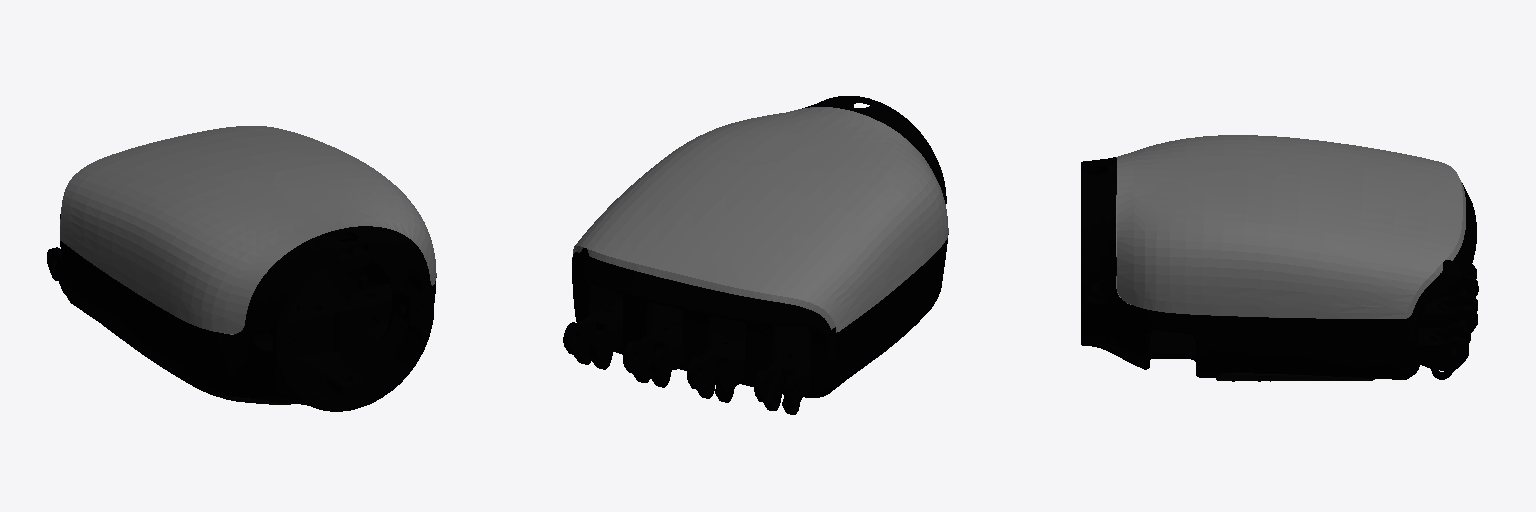
Rendered from L_hand_base_link.obj.
3 views of the same model, side by side, from view 1: azimuth 30°, elevation 25°; view 2: azimuth 150°, elevation 25°; view 3: azimuth 270°, elevation 25° (orthographic).
Visible parts, largest first — view 1: L_hand_base_link; view 2: L_hand_base_link; view 3: L_hand_base_link.
Boxes of the visible parts, <box> form: L_hand_base_link: <box>47,126,436,411</box>; L_hand_base_link: <box>563,96,948,414</box>; L_hand_base_link: <box>1081,135,1478,381</box>.
Size of the model in its own units: 0.0773 by 0.0475 by 0.0997.